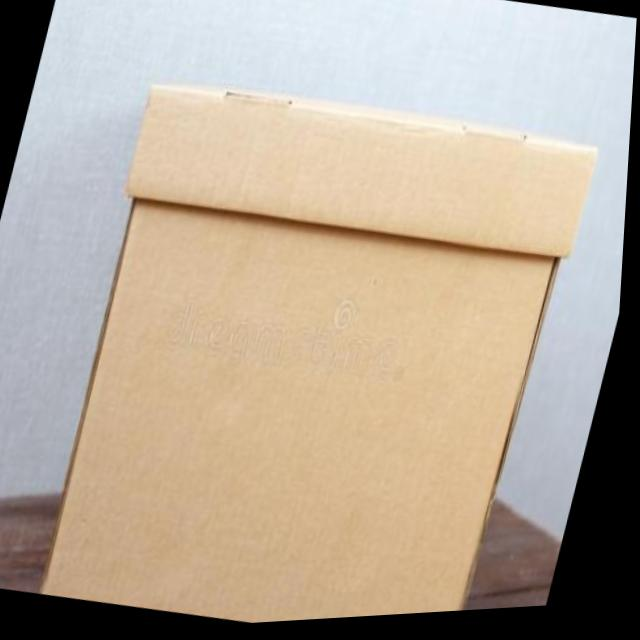box: (19, 29, 621, 638)
